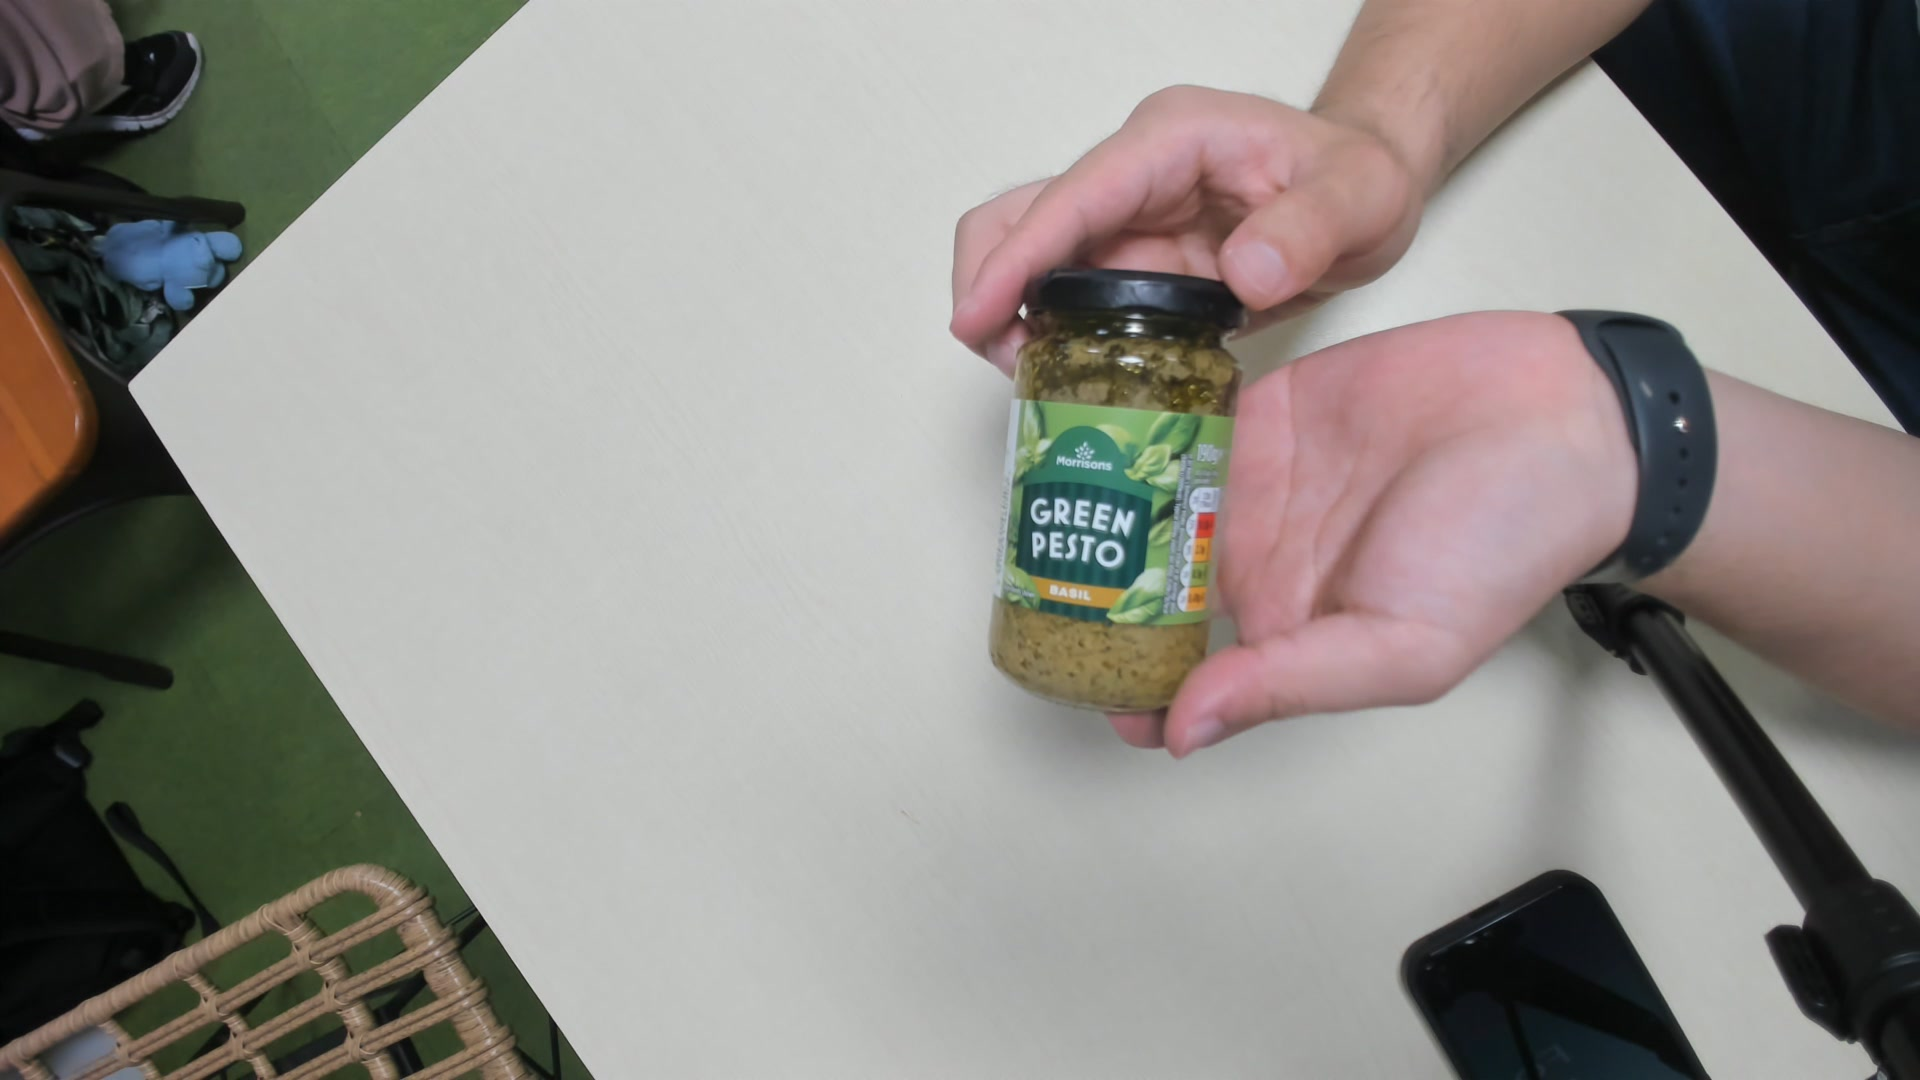OtherSauceDressing_100-199g_NonHalal_NonHealthy: (986, 274, 1251, 713)
